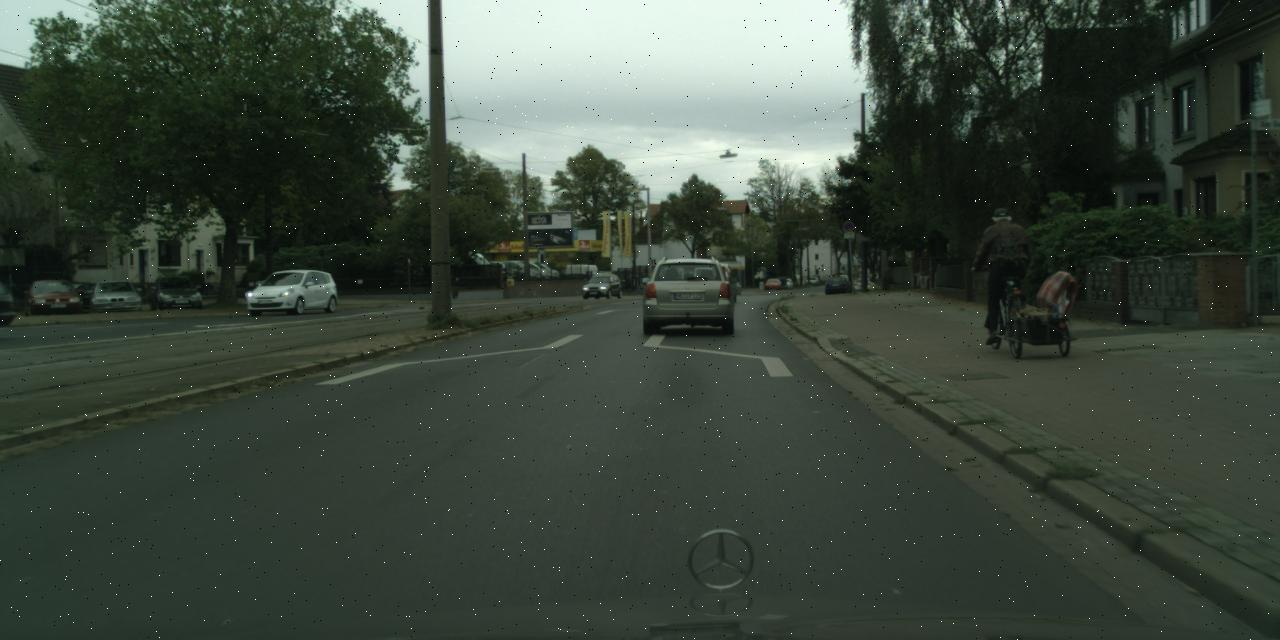ped: (978, 208, 1026, 324), (632, 274, 642, 296)
